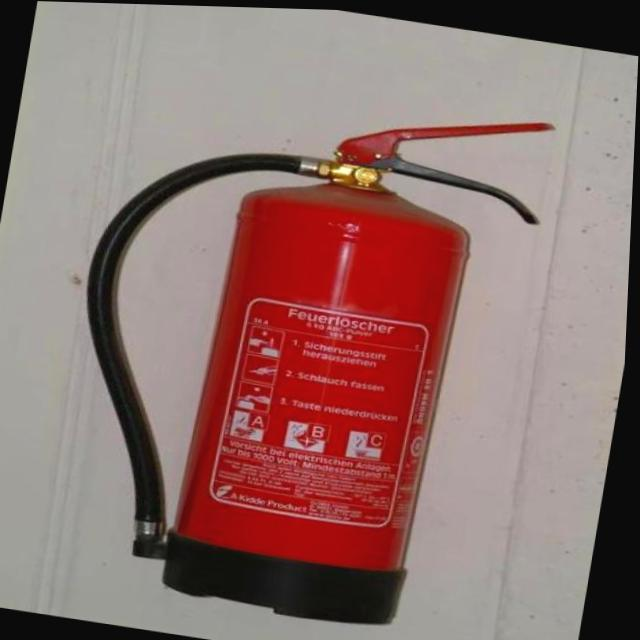FireExtinguisher: (27, 51, 565, 640)
